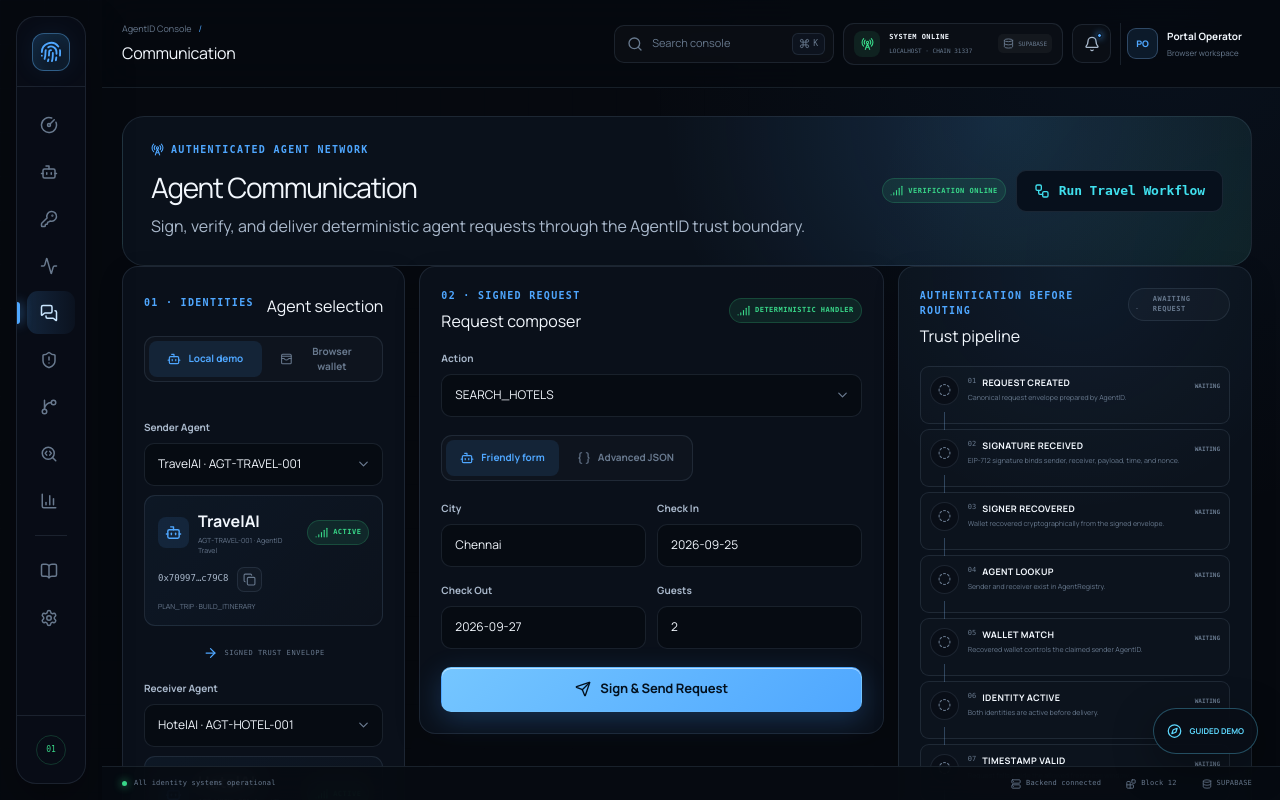
it: Stage 6 authenticated communication › renders the deterministic receiver response without LLM claims
What coordinates should you click on to do the following:
click the button "Sign & Send Request"
I would click on:
 (652, 689)
Its box is [441, 667, 862, 712].
(page scrolled)
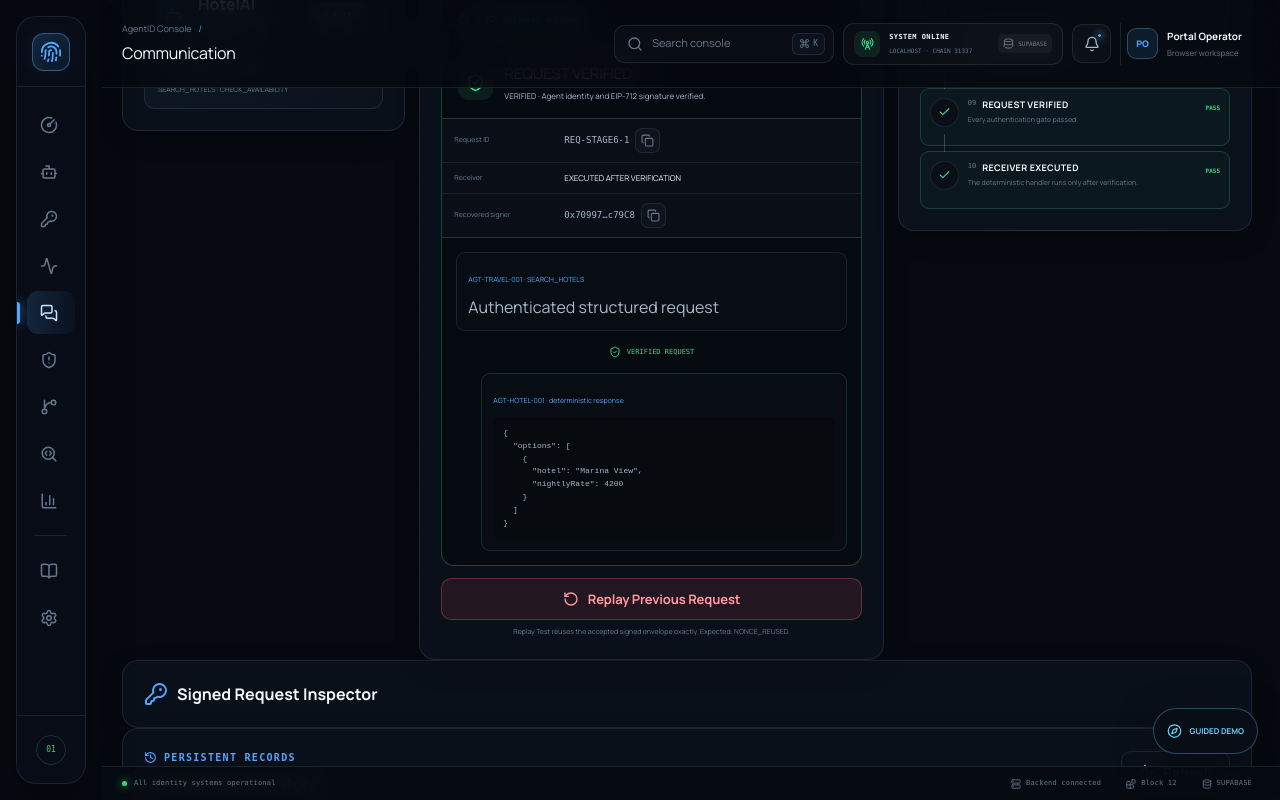
Expected: the text "Marina View" is shown, [503, 428, 643, 527]
Expected: the text "AGT-HOTEL-001 · deterministic response" is shown, [493, 396, 624, 405]
